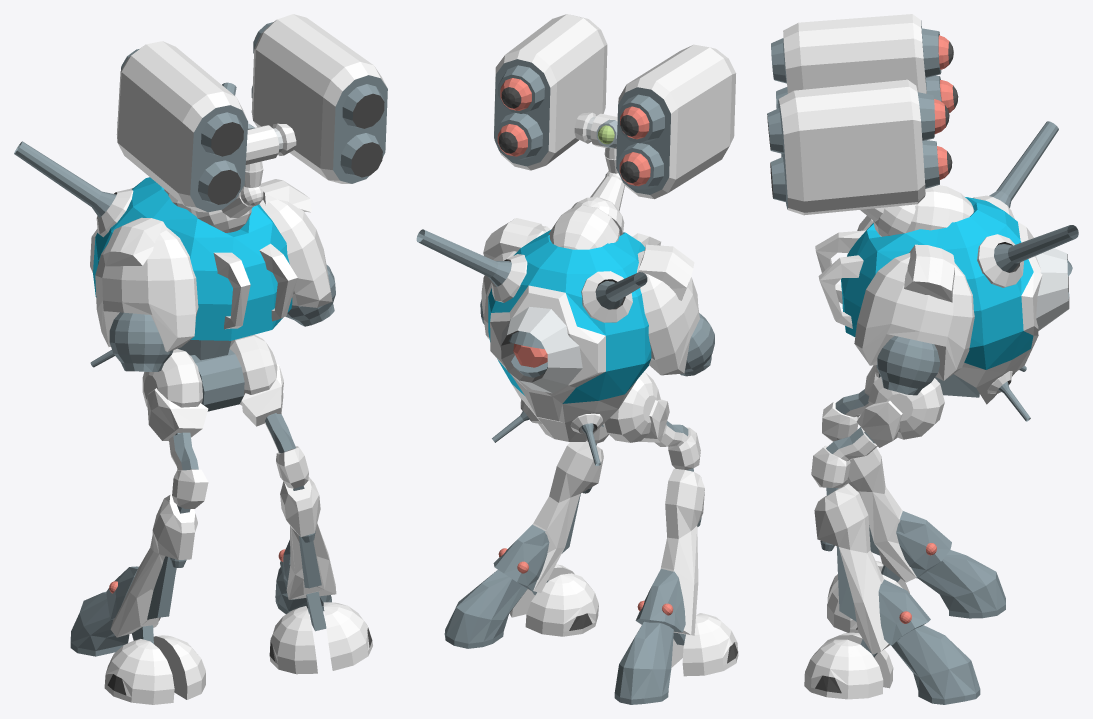
File: MechaMisile 1.fbx
3 views of the same model, side by side, from view 1: azimuth 30°, elevation 25°; view 2: azimuth 150°, elevation 25°; view 3: azimuth 270°, elevation 25° (orthographic). The views are drawn at different scales.
Parts seen in each view (by area): view 1: group_1451506519; view 2: group_1451506519; view 3: group_1451506519.
Boxes of the visible parts, x1,y1,x2,y2 form: group_1451506519: (14,14,387,704); group_1451506519: (416,14,738,704); group_1451506519: (767,14,1078,704).
Bounding box in the file's own units: 22.09 × 50.57 × 23.53.
